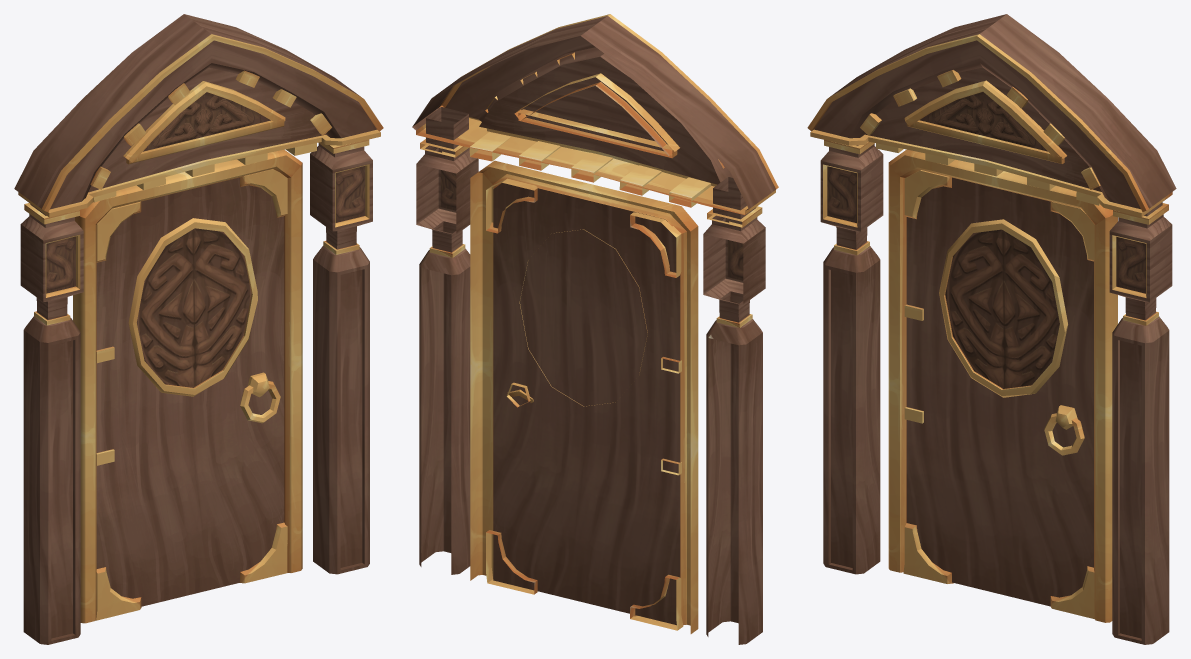
The model's file is Door.fbx.
The picture shows the model from 3 angles, left to right: view 1: azimuth 30°, elevation 25°; view 2: azimuth 150°, elevation 25°; view 3: azimuth 330°, elevation 25°; orthographic projection.
Visible parts, largest first — view 1: Door; view 2: Door; view 3: Door.
Boxes of the visible parts, x1,y1,x2,y2 form: Door: [14, 14, 383, 644]; Door: [412, 14, 778, 644]; Door: [807, 14, 1176, 644].
Bounding box in the file's own units: 0.202 × 0.3285 × 0.0322.
